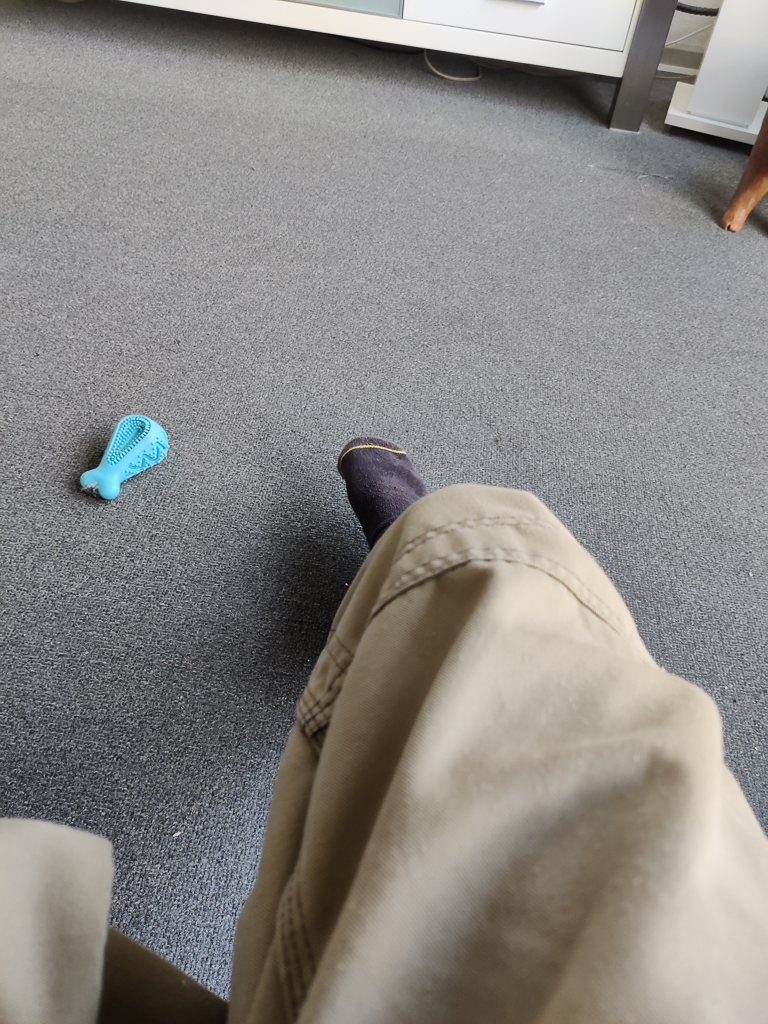Cattle: (712, 68, 768, 246)
Humanoid: (0, 424, 768, 1024)
